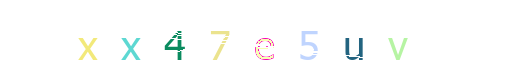4: (136, 0, 216, 80)
5: (238, 0, 318, 80)
7: (215, 0, 295, 80)
E: (224, 0, 304, 80)
U: (308, 0, 388, 80)
V: (311, 0, 391, 80)
X: (135, 0, 215, 80), (136, 0, 216, 80)
